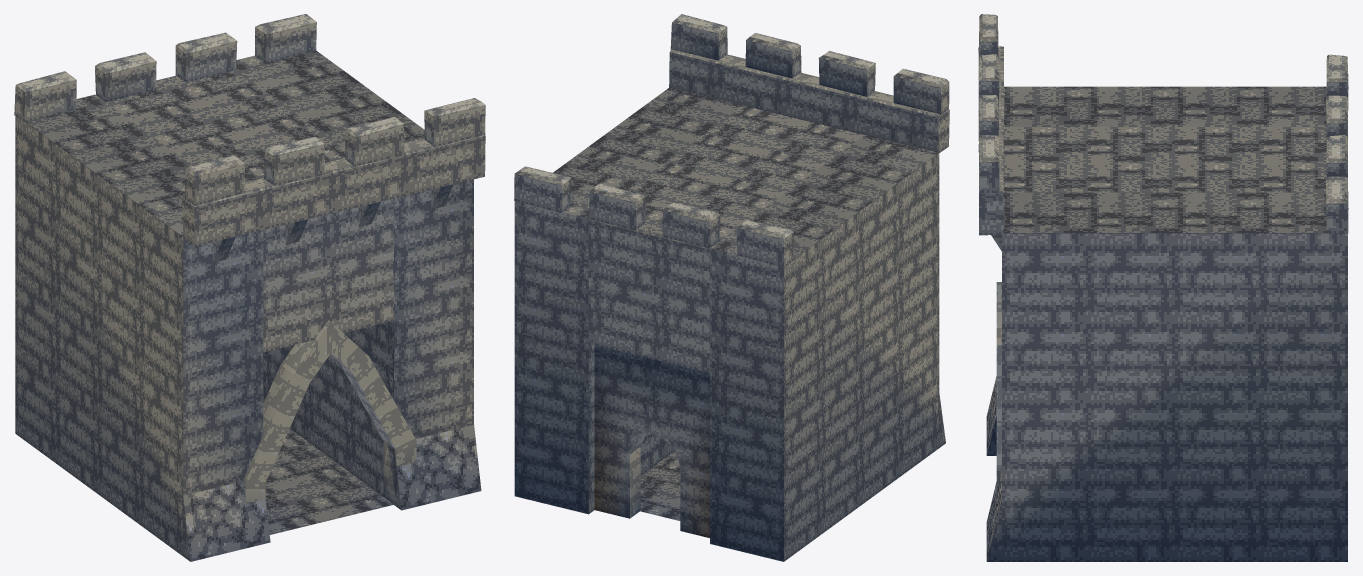
Rendered from cst.gatehouse__deep.glb.
3 views of the same model, side by side, from view 1: azimuth 30°, elevation 25°; view 2: azimuth 150°, elevation 25°; view 3: azimuth 270°, elevation 25° (orthographic). The views are drawn at different scales.
Visible parts, largest first — view 1: kit_block, kit_top, kit_detail, kit_shell_passage_floor; view 2: kit_block, kit_top, kit_shell_passage_floor, kit_detail; view 3: kit_block, kit_top, kit_detail.
Boxes of the visible parts, x1,y1,x2,y2 form: kit_block: (15, 50, 481, 561); kit_top: (14, 14, 485, 246); kit_detail: (213, 184, 453, 505); kit_shell_passage_floor: (265, 428, 393, 534); kit_block: (514, 87, 945, 561); kit_top: (514, 14, 949, 267); kit_shell_passage_floor: (640, 451, 680, 520); kit_detail: (620, 422, 690, 529); kit_block: (986, 86, 1347, 561); kit_top: (978, 14, 1348, 235); kit_detail: (991, 235, 1001, 489).
Size of the model in its own units: 8.04 by 10.3 by 8.56.
5 materials, 5 textured.
